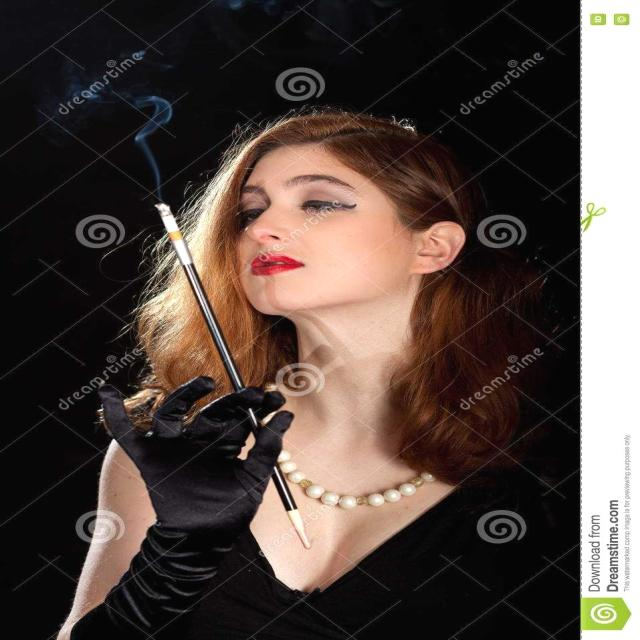Smooking: (143, 189, 324, 565)
